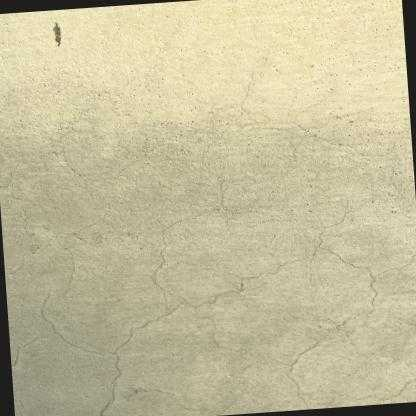crack: (95, 208, 380, 416)
